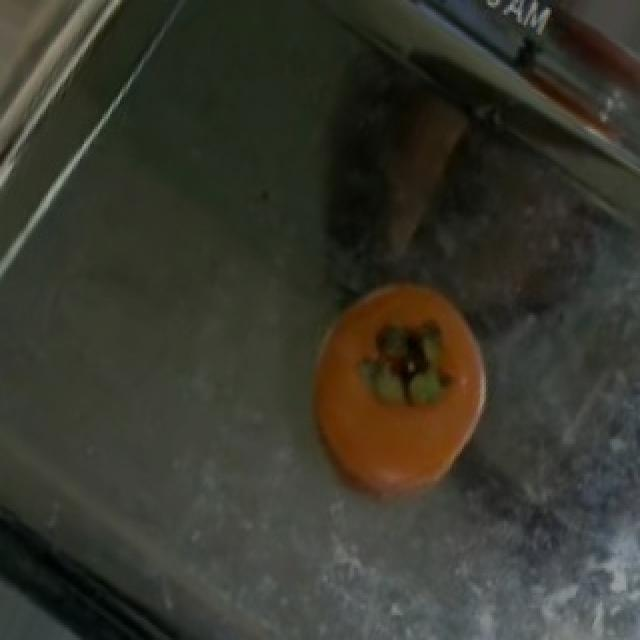Fruit: (282, 260, 510, 511)
